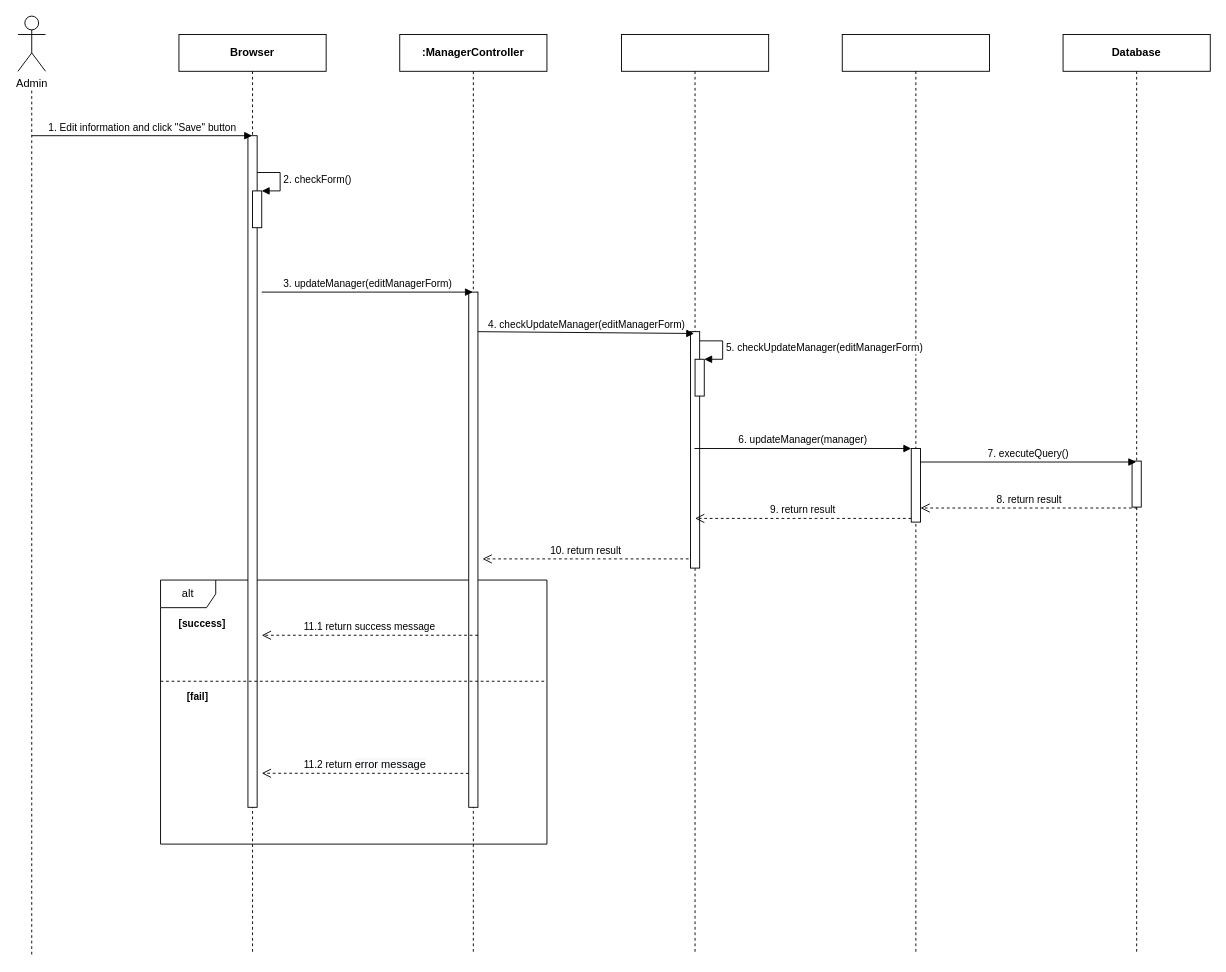
Some shapes in this 1226 by 972 pixel diagram are drawn without their labels. Each missing label, with the box of its shape:
:ManagerDAO: (841, 34, 989, 954)
:ManagerService: (621, 34, 769, 954)
